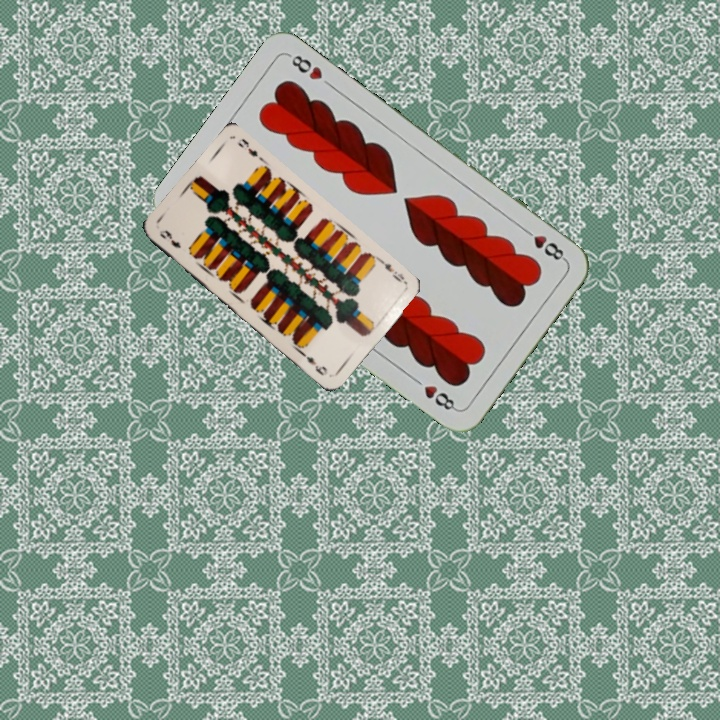E9: (376, 256, 410, 287), (155, 226, 184, 251)
H8: (517, 223, 568, 263)
